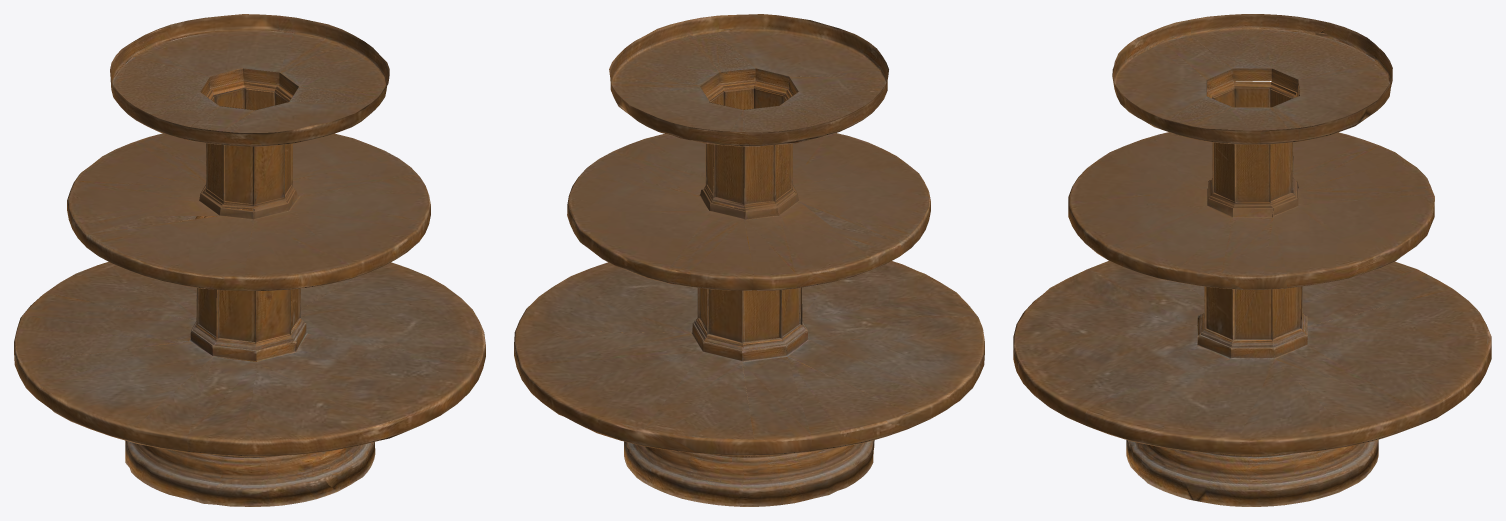
File: skyways-d-bk-table.glb
3 renders of one model, left to right at view 1: azimuth 30°, elevation 25°; view 2: azimuth 150°, elevation 25°; view 3: azimuth 270°, elevation 25°, orthographic.
Parts seen in each view (by area): view 1: skyways-d-bk-table; view 2: skyways-d-bk-table; view 3: skyways-d-bk-table.
Part boxes in pixels (x1,y1,x2,y2): skyways-d-bk-table: (14,14,485,506); skyways-d-bk-table: (514,14,984,506); skyways-d-bk-table: (1013,14,1491,506).
Bounding box in the file's own units: 1.24 × 1.1 × 1.25.
Materials: 1 (1 with a texture image).
